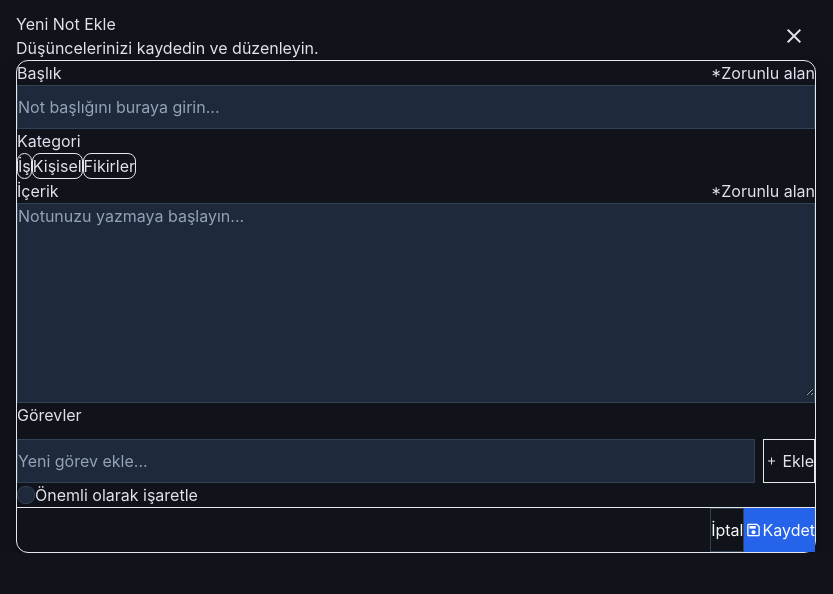
Test: NotEkleduzenle - Add Mode › can remove a todo item
This screenshot has width=833, height=594.
Type "Silinecek" into the field with placeholder "Yeni görev ekle..." at (386, 461), box [17,439,755,483]
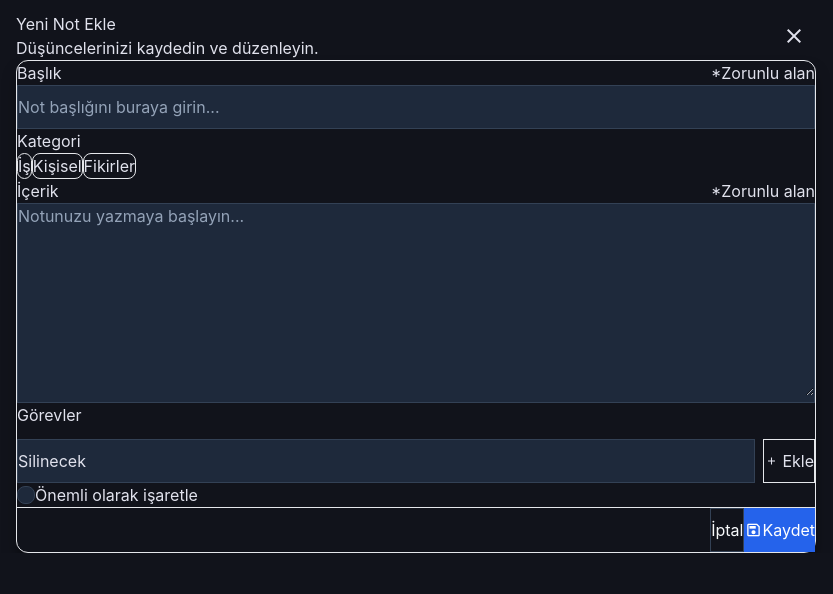
Click the button "Ekle" at (789, 461), box [763,439,815,483]
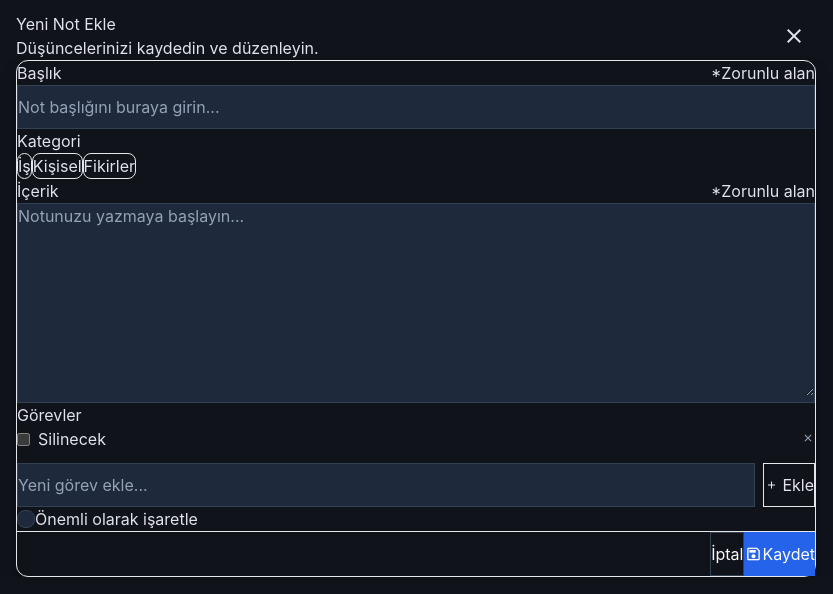
Click the button named "Görevi Sil" at (808, 439), box [801,427,815,451]
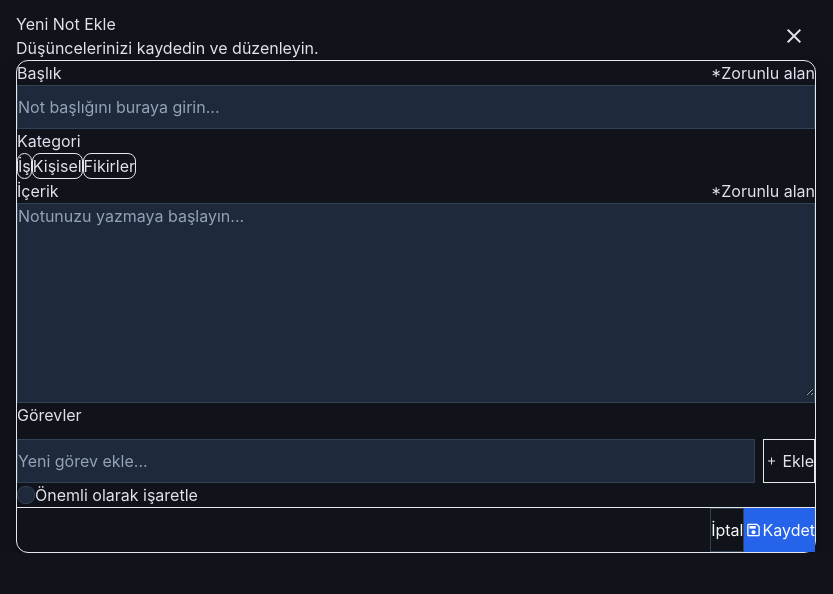
Expected: the text "Silinecek" is gone
